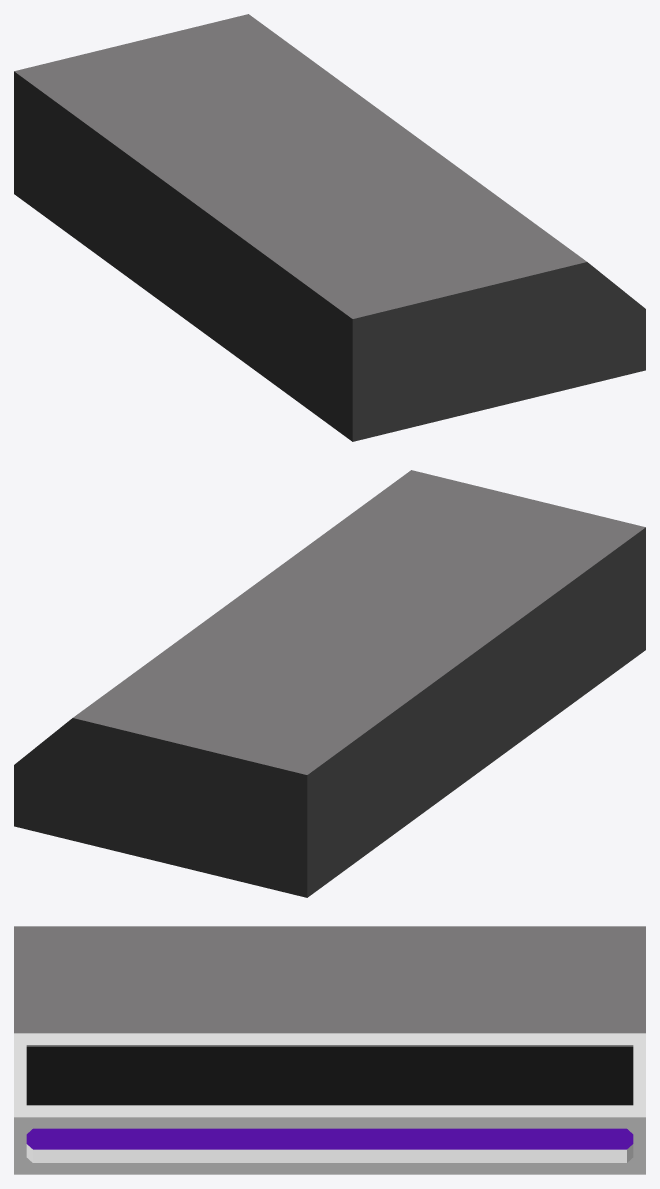
File: PlatformBorder00b_5.fbx
3 renders of one model, top to bottom at view 1: azimuth 30°, elevation 25°; view 2: azimuth 150°, elevation 25°; view 3: azimuth 270°, elevation 25°, orthographic. The views are drawn at different scales.
Visible parts, largest first — view 1: PlatformBorder00b_5; view 2: PlatformBorder00b_5; view 3: PlatformBorder00b_5.
Part boxes in pixels (bbox=[...]): PlatformBorder00b_5: bbox=[14, 14, 645, 441]; PlatformBorder00b_5: bbox=[14, 470, 645, 897]; PlatformBorder00b_5: bbox=[14, 926, 645, 1174].
Size of the model in its own units: 250 by 100 by 500.
